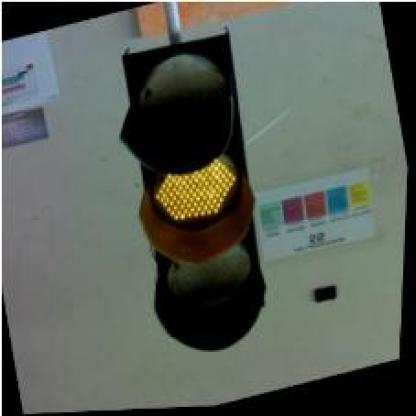yellow: (101, 28, 295, 367)
